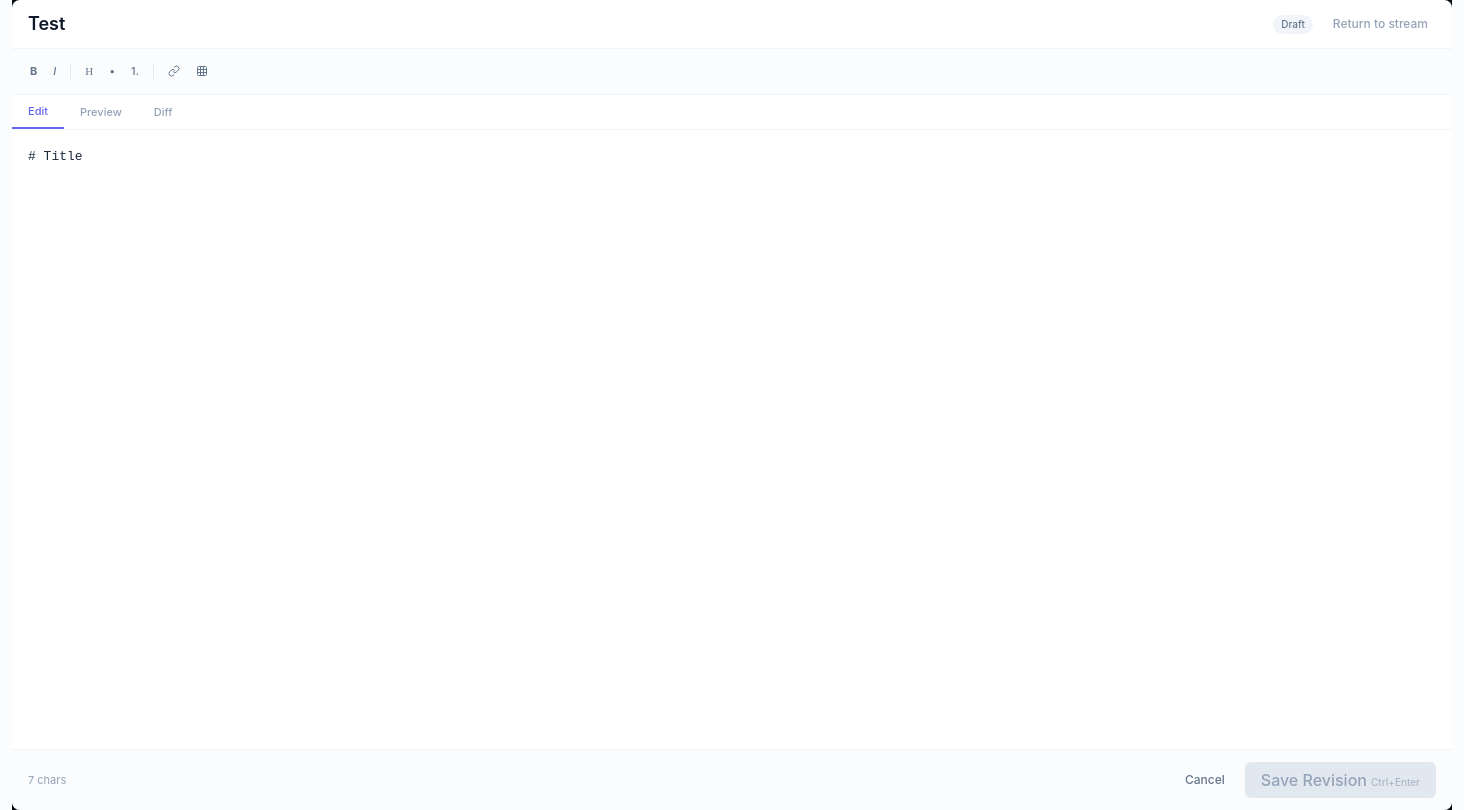
FocusedEditor › switches to Preview tab and renders markdown
Click the button "Preview" at (101, 112), box [64,94,138,129]
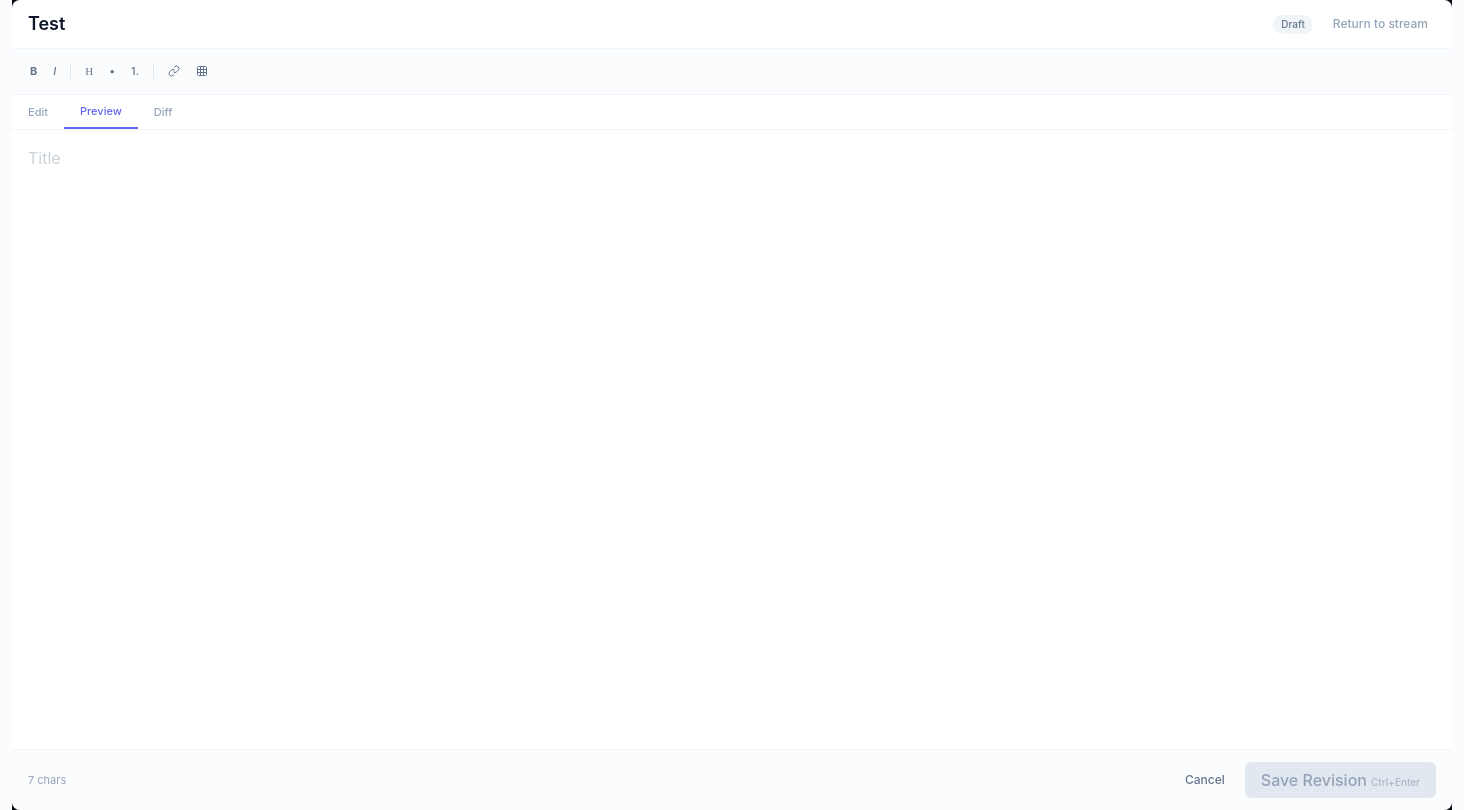
Check: the heading "Title" is shown, box [28,148,61,168]
